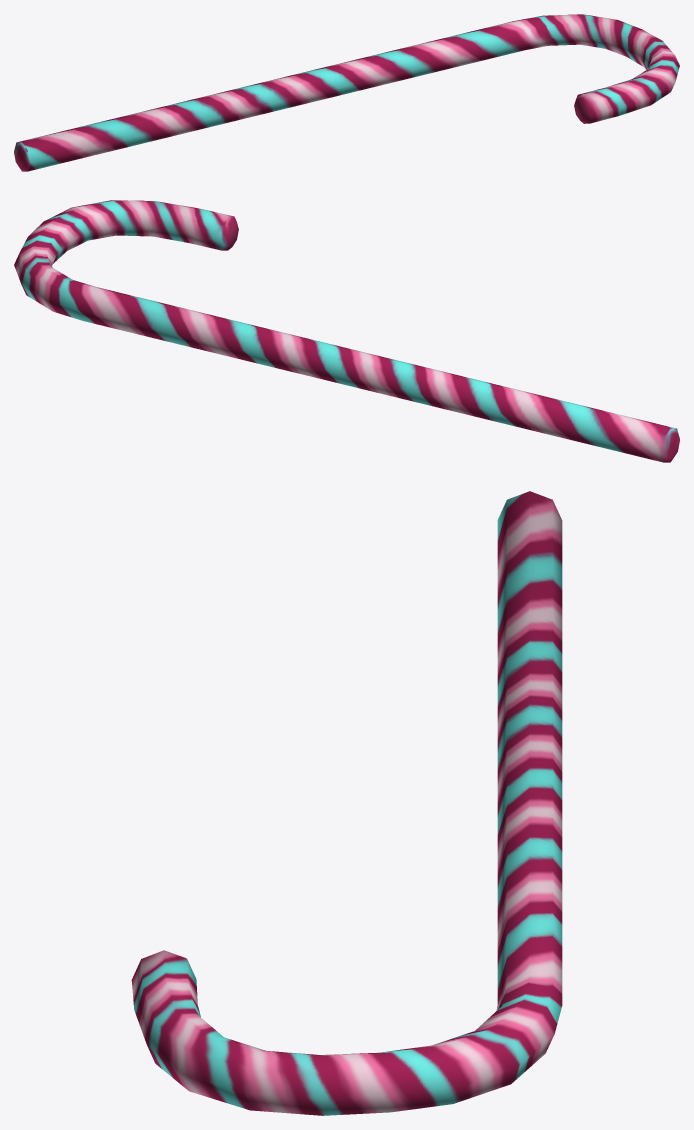
Rendered from CHP_MOD_Candy_cane_blue_pink.fbx.
3 renders of one model, top to bottom at view 1: azimuth 30°, elevation 25°; view 2: azimuth 150°, elevation 25°; view 3: azimuth 270°, elevation 25°, orthographic. The views are drawn at different scales.
Visible parts, largest first — view 1: CHP_MOD_Candy_cane_blue_pink; view 2: CHP_MOD_Candy_cane_blue_pink; view 3: CHP_MOD_Candy_cane_blue_pink.
Boxes of the visible parts, <box> form: CHP_MOD_Candy_cane_blue_pink: <box>14,14,679,171</box>; CHP_MOD_Candy_cane_blue_pink: <box>14,200,679,462</box>; CHP_MOD_Candy_cane_blue_pink: <box>131,491,562,1115</box>.
Size of the model in its own units: 1.18 by 0.0557 by 0.3706.
